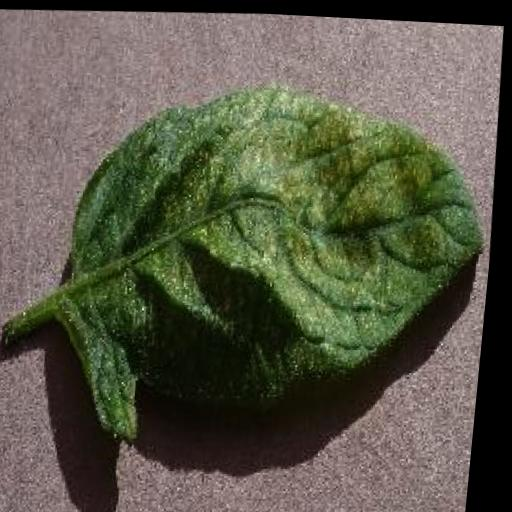Spider Mites: (48, 67, 507, 457)
